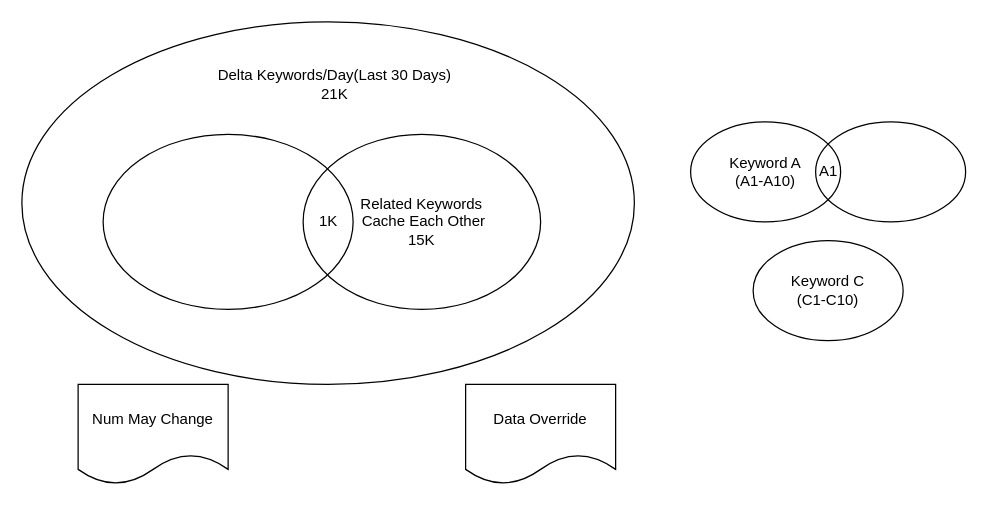
This 988x506 diagram has some shape labels left out. The shapes that lost their labels are listed below. From the top down, each one's box as (x1, y1, x2, y2) in pixels, then its label:
(814, 121, 966, 222): Keyword B (A1,B2-B10)
(102, 133, 353, 309): Product Quantity Filter 15K
